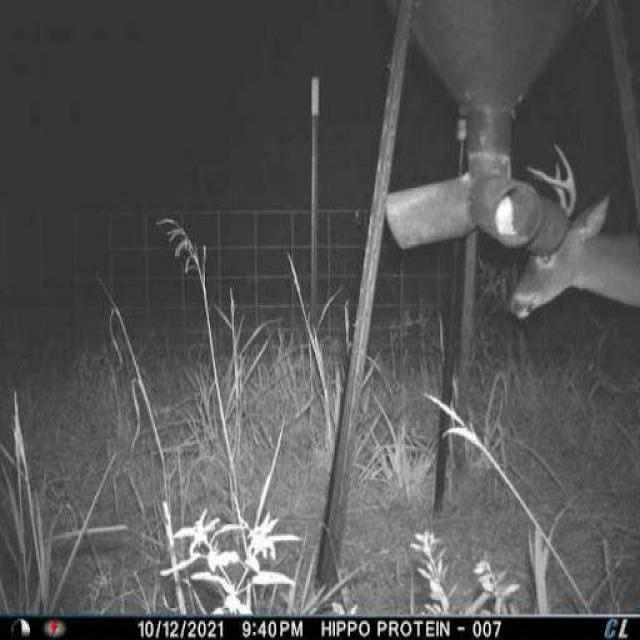deer: (508, 133, 636, 352)
